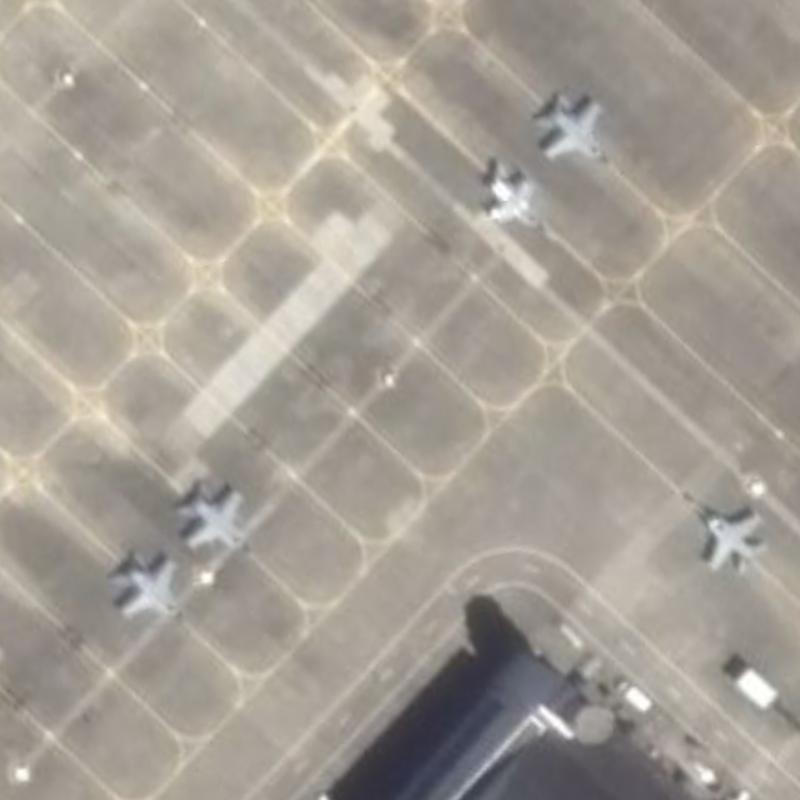A16: (671, 474, 775, 583), (98, 534, 200, 644), (170, 473, 266, 570), (531, 82, 620, 182)
